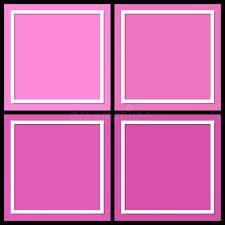pink_zone: (6, 116, 119, 225), (120, 118, 225, 225), (120, 10, 212, 105), (13, 13, 103, 104)
